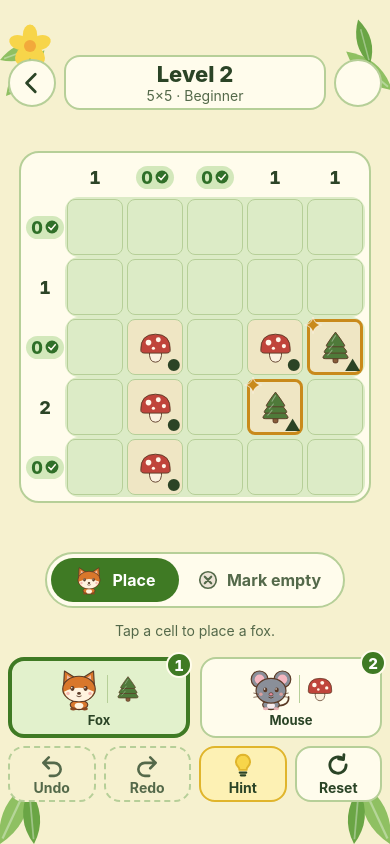
Test: PuzzleScreen › labels clues with progress
Click the button with test id "tool-mouse": (291,698) [200, 657, 382, 738]
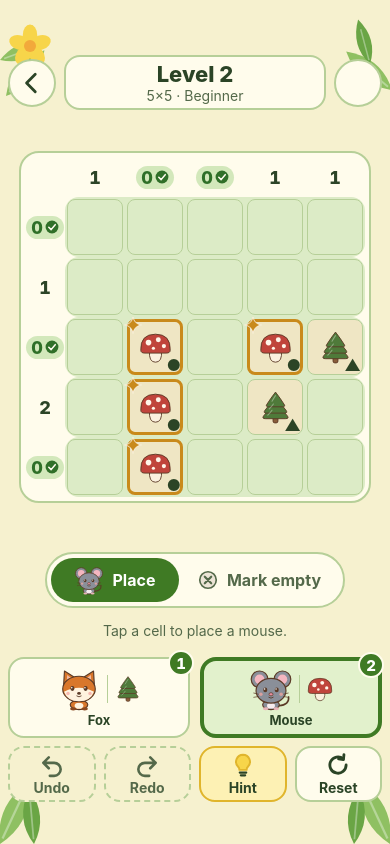
Click the button named "Row 2, column 4: unmarked": (275,287) [245, 257, 305, 317]
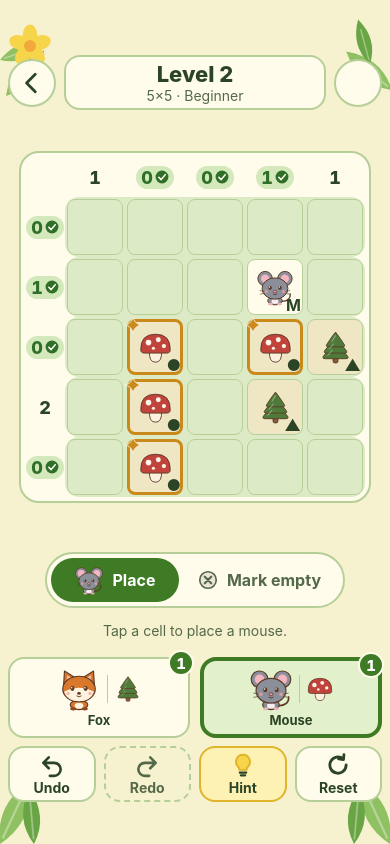
Now the element named "Column 4: 1 of 1 animal, complete" is shown, box [256, 166, 294, 188]
